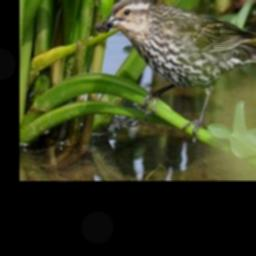Sparrow: (99, 0, 256, 139)
